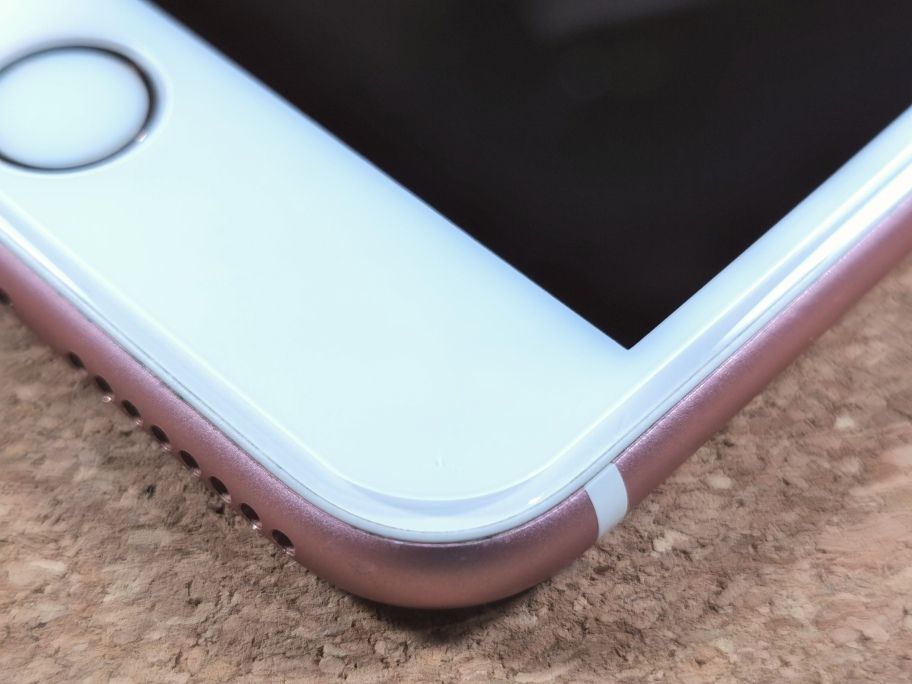Phone: (1, 1, 912, 624)
